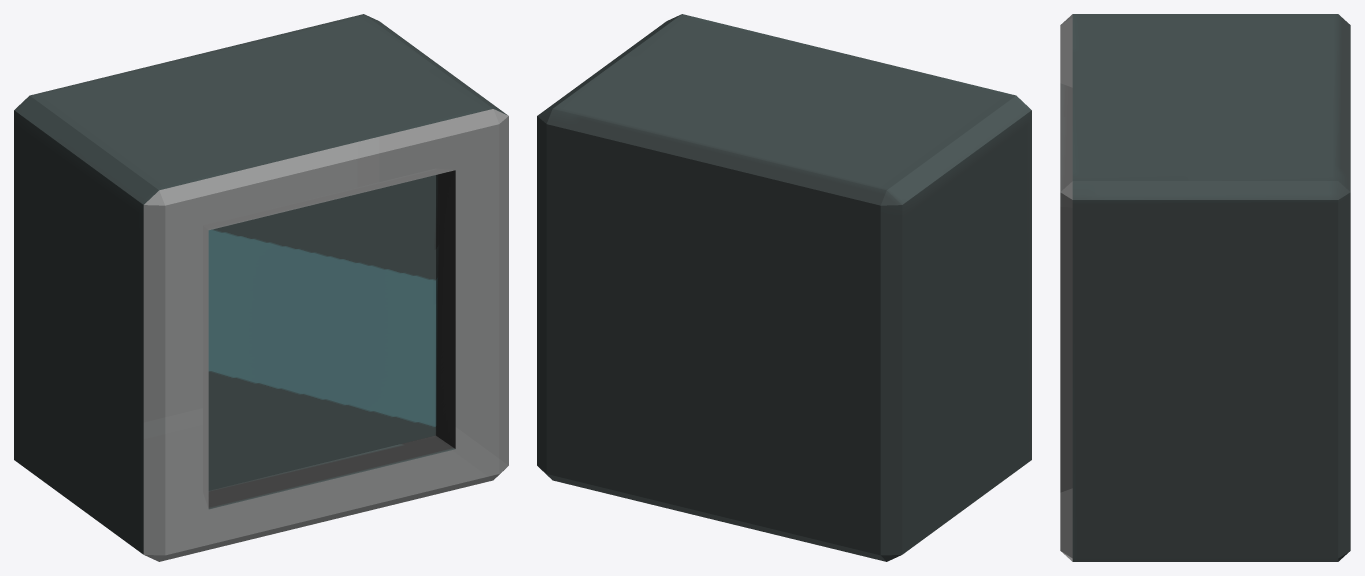
The model's file is 61_ELM_SquareGlass.fbx.
3 views of the same model, side by side, from view 1: azimuth 30°, elevation 25°; view 2: azimuth 150°, elevation 25°; view 3: azimuth 270°, elevation 25° (orthographic). The views are drawn at different scales.
Visible parts, largest first — view 1: SquareGlass, RimSquareGlass; view 2: SquareGlass; view 3: SquareGlass, RimSquareGlass.
Part boxes in pixels (x1,y1,x2,y2): SquareGlass: [14, 14, 508, 561]; RimSquareGlass: [143, 109, 508, 561]; SquareGlass: [537, 14, 1031, 561]; SquareGlass: [1061, 14, 1350, 561]; RimSquareGlass: [1060, 14, 1072, 561].
Bounding box in the file's own units: 2.11 × 2.05 × 1.42.
